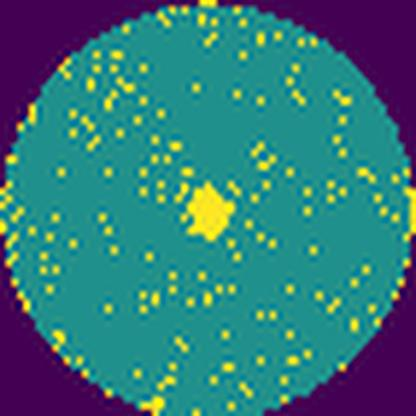Center: (183, 182, 236, 244)
